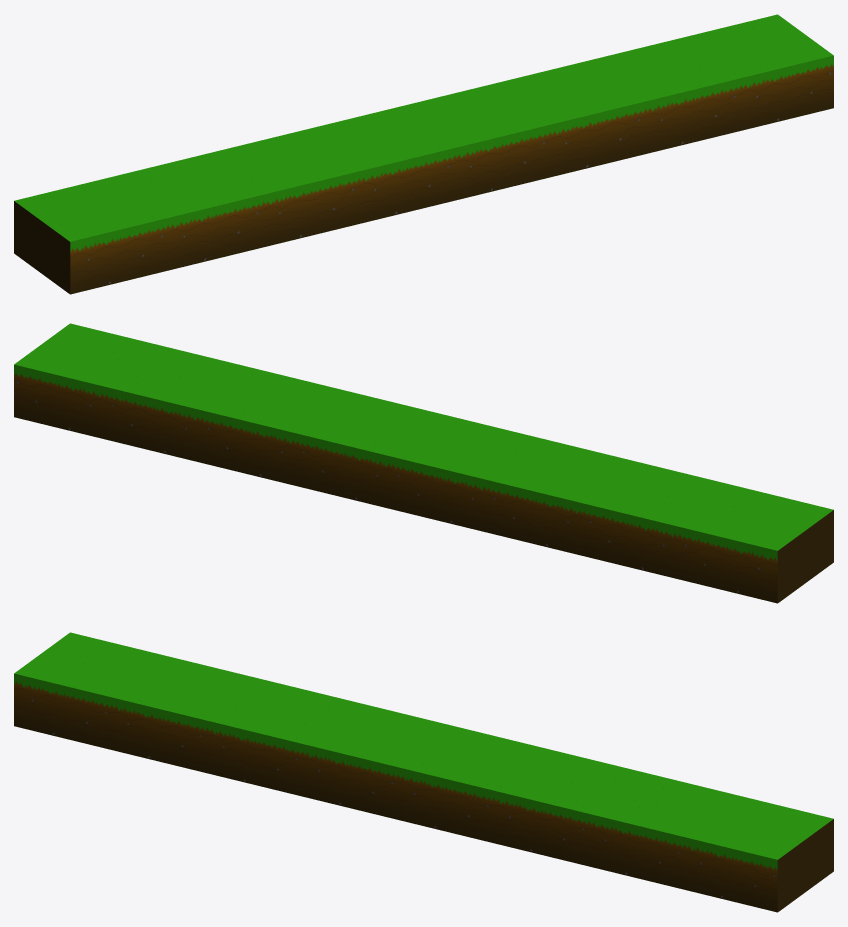
Rendered from jimen (1).fbx.
3 renders of one model, top to bottom at view 1: azimuth 30°, elevation 25°; view 2: azimuth 150°, elevation 25°; view 3: azimuth 330°, elevation 25°, orthographic.
Visible parts, largest first — view 1: pCube1; view 2: pCube1; view 3: pCube1.
Boxes of the visible parts, left/top/right/bottom form: pCube1: left=14, top=14, right=833, bottom=294; pCube1: left=14, top=323, right=833, bottom=603; pCube1: left=14, top=632, right=833, bottom=912.
Size of the model in its own units: 20025 by 1319 by 2551.
Materials: 3 (3 with a texture image).
